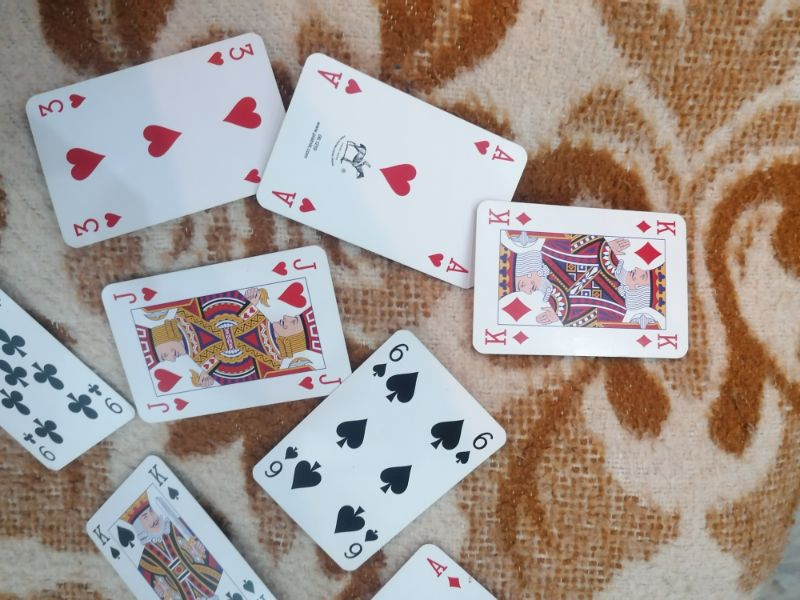3h: (29, 82, 90, 124), (201, 33, 261, 75), (67, 208, 134, 240)
6s: (367, 336, 412, 387), (449, 423, 498, 469), (258, 443, 303, 488), (340, 525, 383, 570)
9c: (84, 378, 132, 421), (17, 425, 58, 468)
Ad: (416, 547, 469, 594)
Ah: (309, 58, 370, 100), (419, 241, 475, 286), (265, 180, 324, 219), (468, 132, 519, 168)
Jh: (106, 282, 171, 311), (268, 251, 322, 285), (140, 391, 193, 421), (293, 369, 349, 395)
Kd: (479, 201, 538, 234), (628, 325, 686, 355), (477, 320, 533, 351), (631, 209, 682, 243)
Ks: (140, 456, 186, 506), (83, 516, 128, 564)
